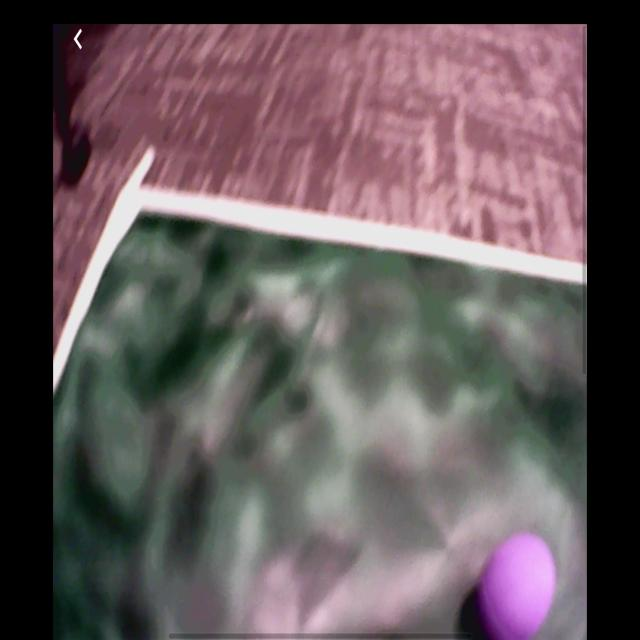ball: (474, 532, 558, 638)
